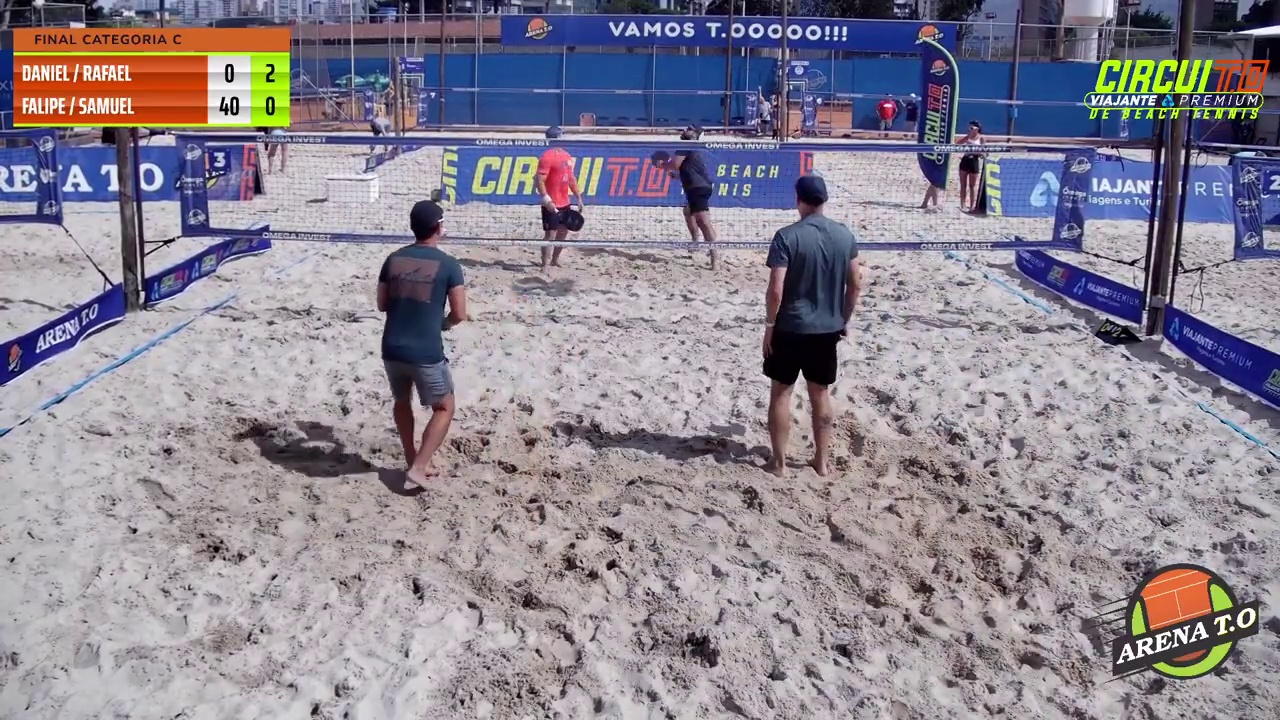court_line: (642, 0, 789, 329)
